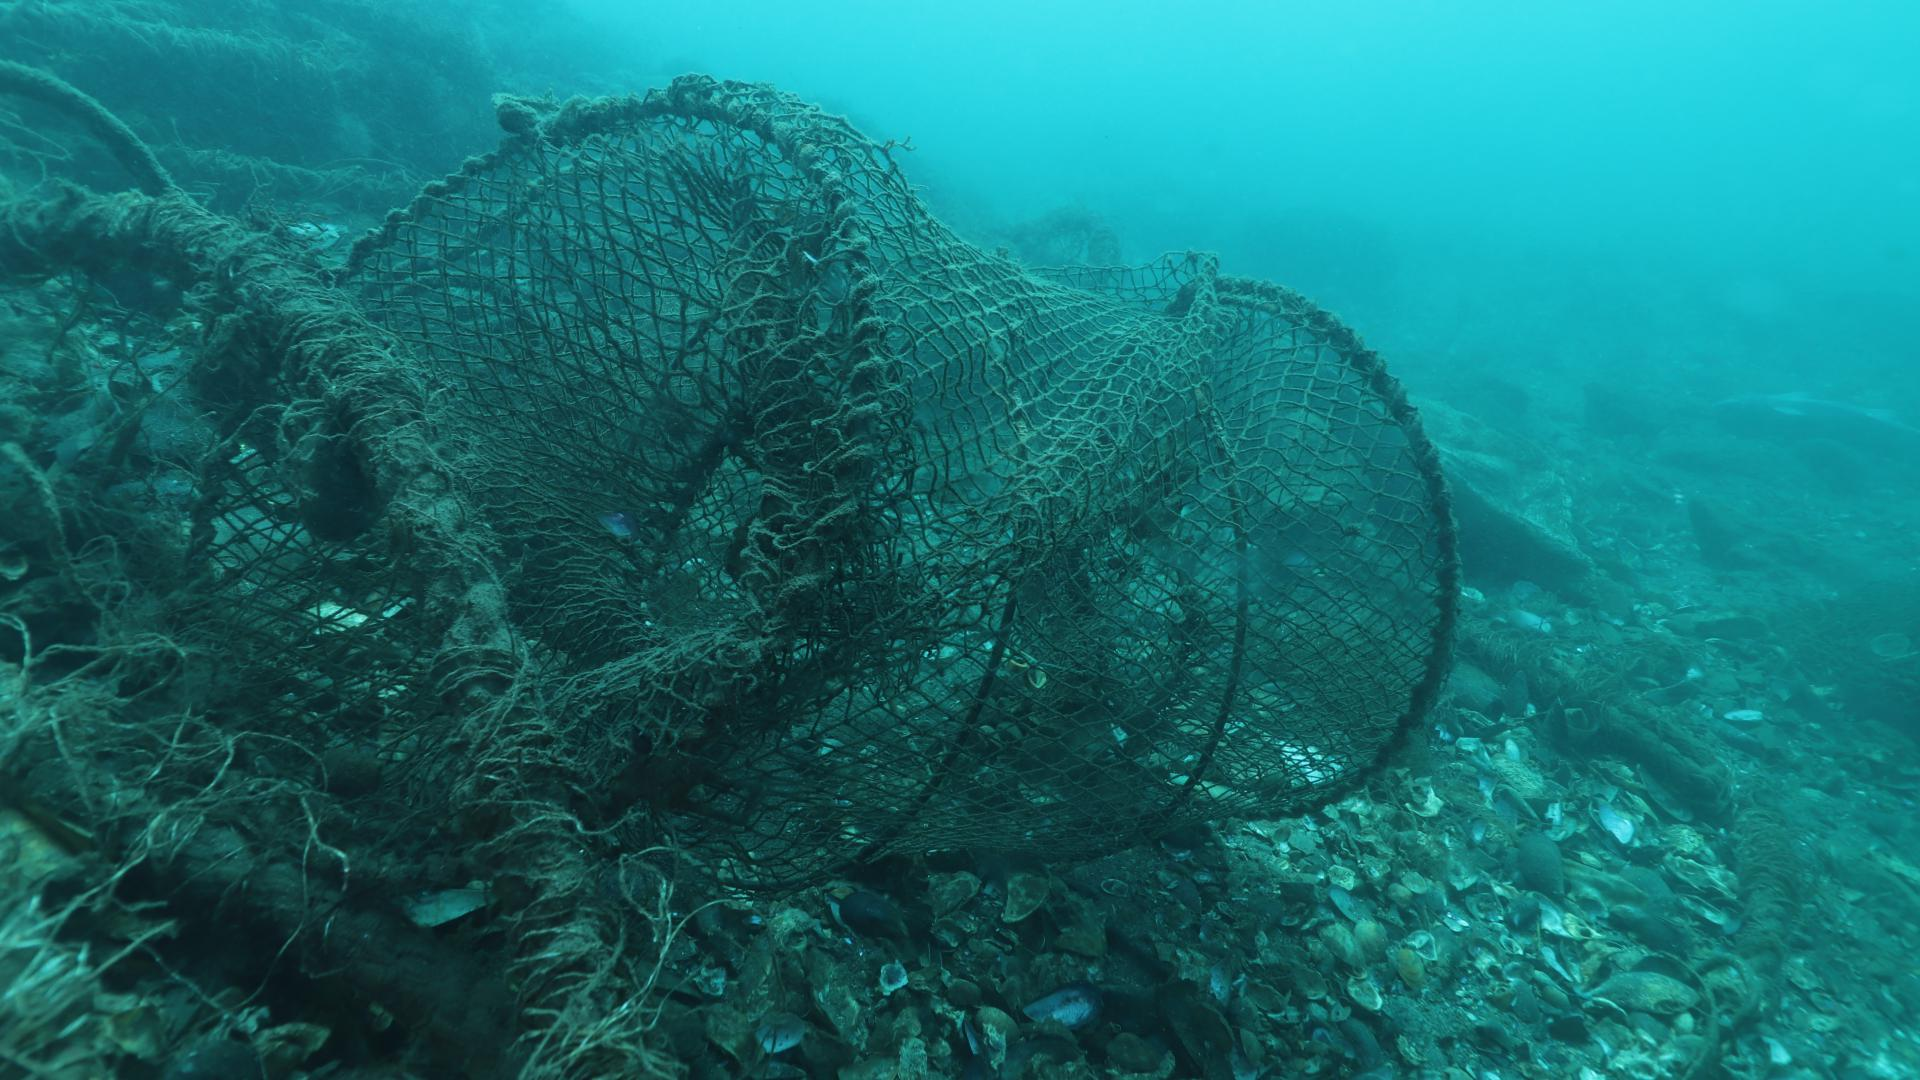spring fish trap: (185, 80, 1466, 887)
